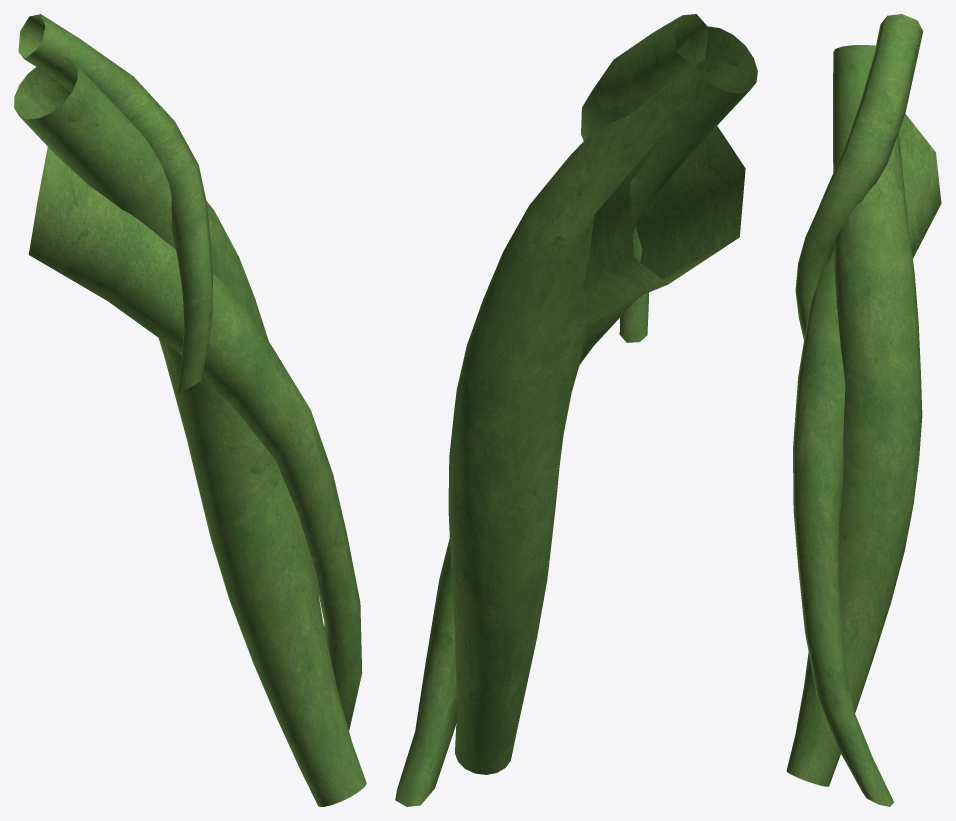
Rendered from SM_ENV_KNFRST_TreeRoot_C.FBX.
3 views of the same model, side by side, from view 1: azimuth 30°, elevation 25°; view 2: azimuth 150°, elevation 25°; view 3: azimuth 270°, elevation 25° (orthographic). The views are drawn at different scales.
Visible parts, largest first — view 1: SM_ENV_KNFRST_TreeRoot_C; view 2: SM_ENV_KNFRST_TreeRoot_C; view 3: SM_ENV_KNFRST_TreeRoot_C.
Part boxes in pixels (bbox=[...]): SM_ENV_KNFRST_TreeRoot_C: bbox=[14, 14, 366, 806]; SM_ENV_KNFRST_TreeRoot_C: bbox=[395, 14, 757, 806]; SM_ENV_KNFRST_TreeRoot_C: bbox=[786, 14, 941, 806].
Bounding box in the file's own units: 645 × 1542 × 318.
